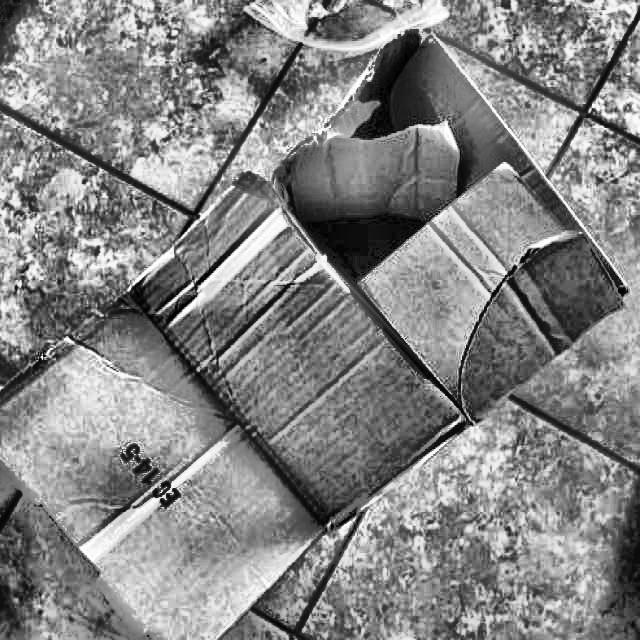box: (0, 0, 635, 639)
hole: (276, 30, 487, 276)
